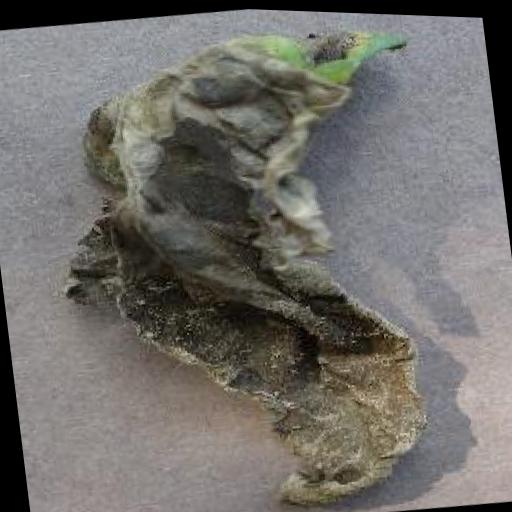Early Blight: (33, 3, 461, 512)
